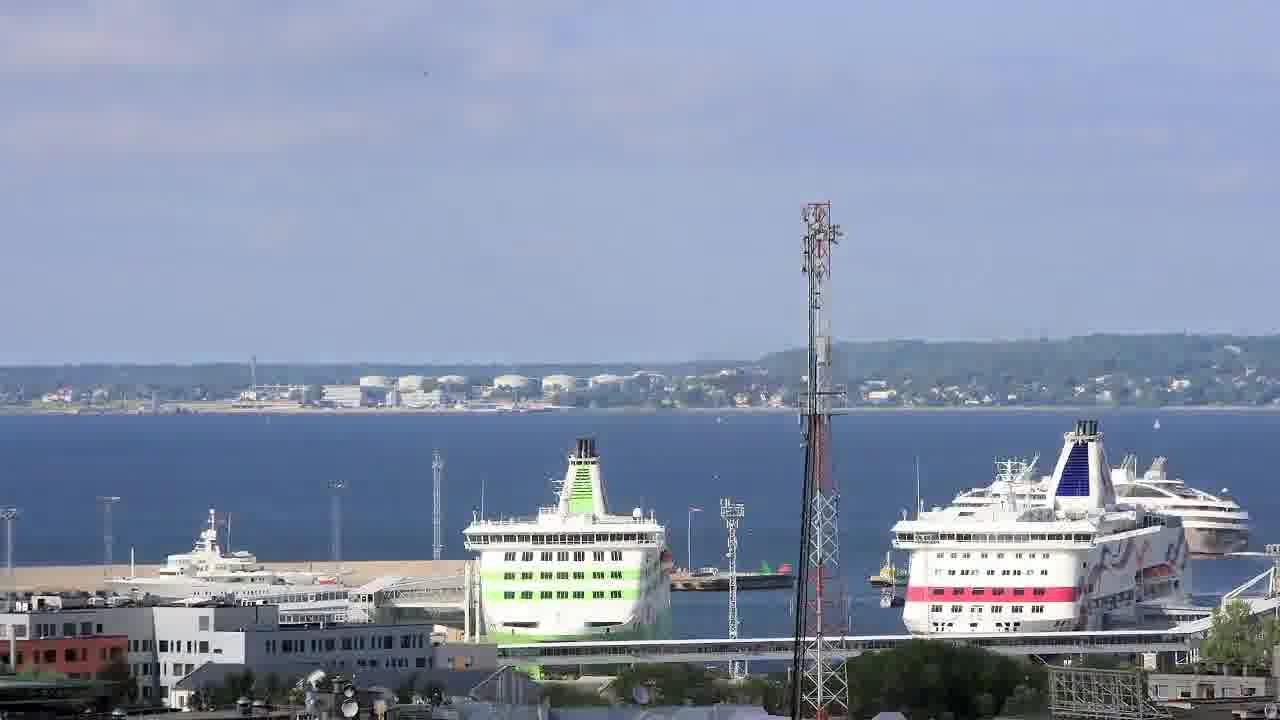type-0: (878, 543, 909, 590)
type-3: (868, 415, 1225, 638), (436, 434, 694, 670), (88, 499, 357, 605), (1095, 455, 1280, 571)
